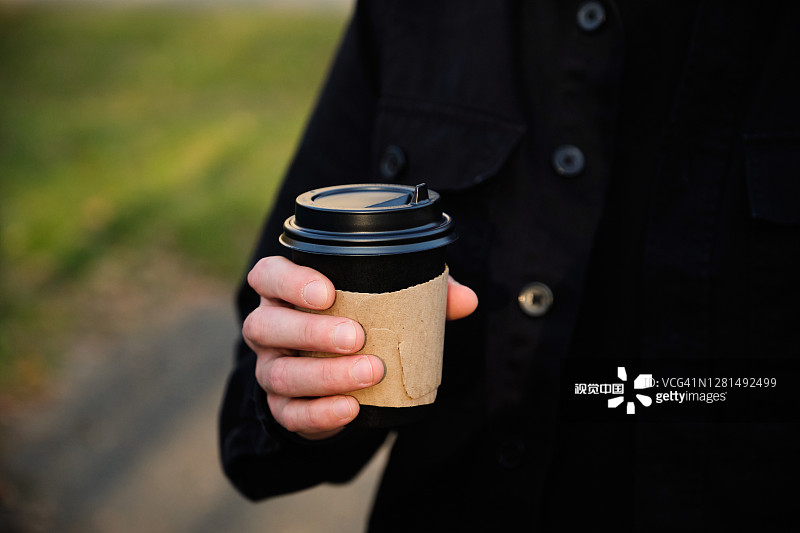no-phone: (224, 221, 504, 463)
